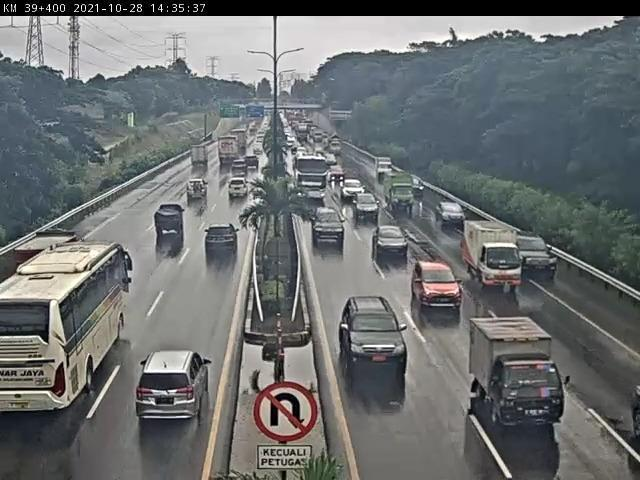bus: (1, 243, 129, 409), (296, 153, 328, 202)
car: (467, 319, 567, 428), (137, 352, 213, 423), (341, 296, 406, 366), (413, 261, 462, 309), (517, 240, 557, 276), (310, 207, 345, 248), (374, 228, 409, 259), (205, 227, 239, 256), (435, 203, 468, 227), (350, 193, 378, 218), (226, 178, 252, 201), (185, 180, 210, 203), (340, 178, 363, 196), (233, 161, 250, 178), (246, 158, 261, 172), (331, 166, 345, 181), (253, 145, 263, 158), (324, 154, 335, 164)
truck: (464, 221, 523, 290), (18, 232, 76, 267), (384, 173, 416, 214), (156, 205, 187, 238), (218, 136, 241, 166), (374, 158, 394, 181), (231, 131, 249, 156), (191, 147, 209, 168)
